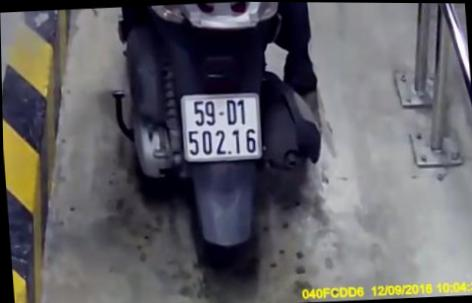LP: (176, 87, 266, 166)
